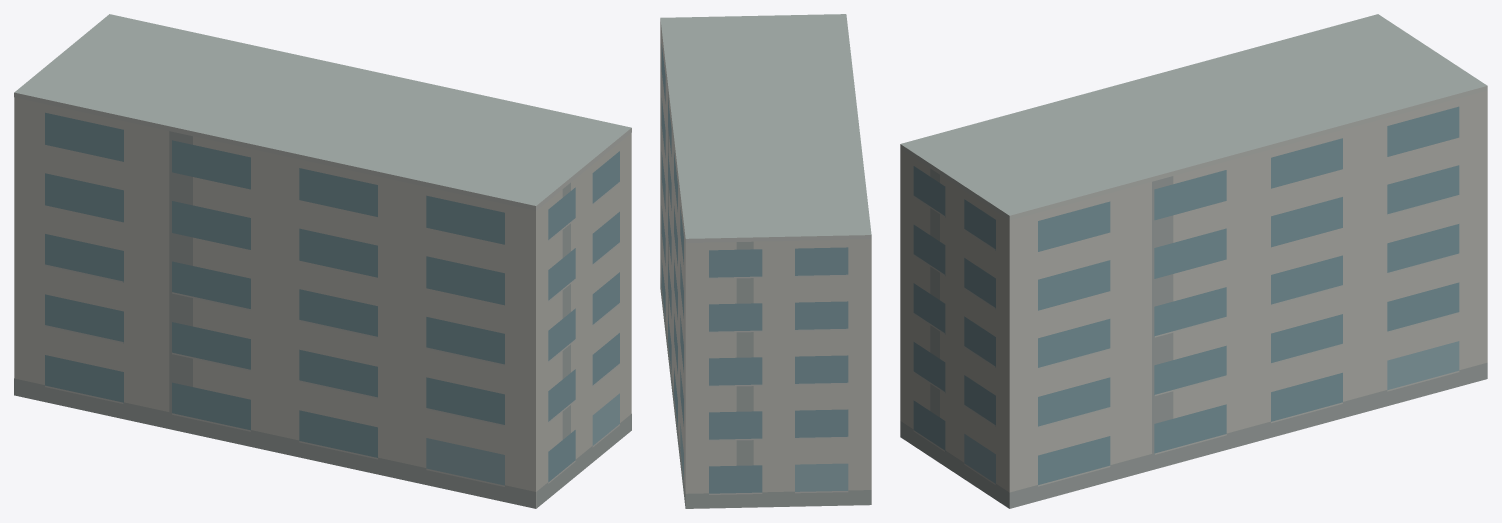
File: residential-9d52a10c-f108-48b0-a275-114a2ec04f47.glb
3 renders of one model, left to right at view 1: azimuth 30°, elevation 25°; view 2: azimuth 150°, elevation 25°; view 3: azimuth 270°, elevation 25°, orthographic. The views are drawn at different scales.
Visible parts, largest first — view 1: residential-9d52a10c-f108-48b0-a275-114a2ec04f47.tmp; view 2: residential-9d52a10c-f108-48b0-a275-114a2ec04f47.tmp; view 3: residential-9d52a10c-f108-48b0-a275-114a2ec04f47.tmp.
Boxes of the visible parts, x1,y1,x2,y2 form: residential-9d52a10c-f108-48b0-a275-114a2ec04f47.tmp: [14, 14, 631, 508]; residential-9d52a10c-f108-48b0-a275-114a2ec04f47.tmp: [660, 14, 871, 508]; residential-9d52a10c-f108-48b0-a275-114a2ec04f47.tmp: [900, 14, 1487, 508].
Bounding box in the file's own units: 22.52 × 15.25 × 27.71.
